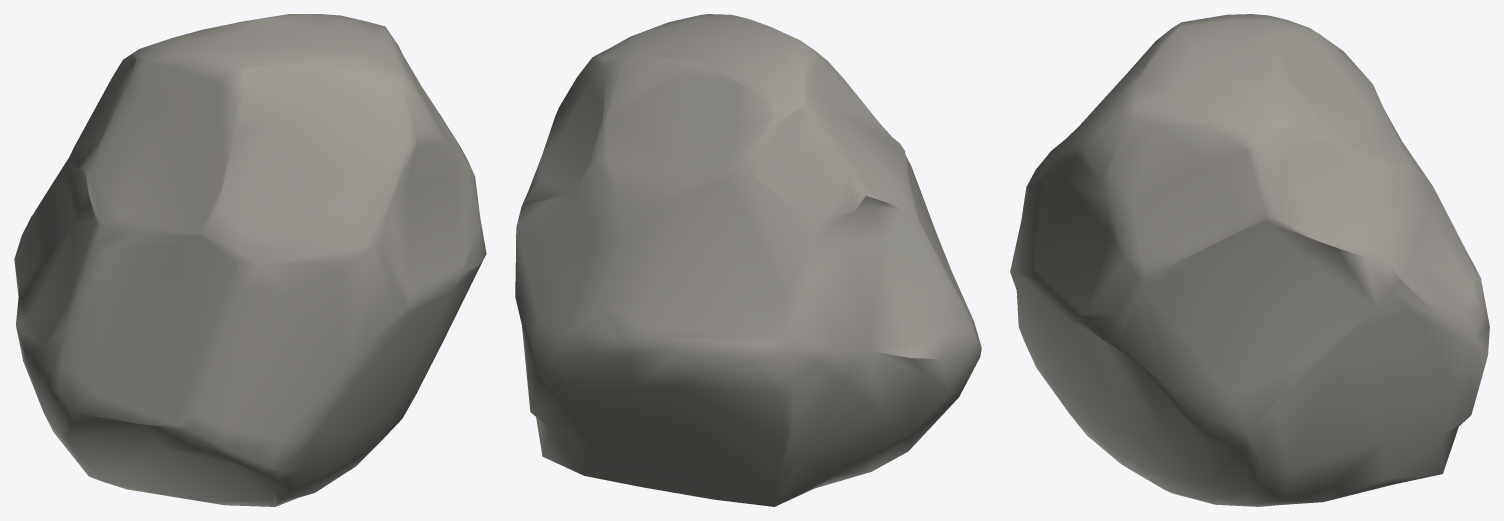
File: roca2.glb
The picture shows the model from 3 angles, left to right: view 1: azimuth 30°, elevation 25°; view 2: azimuth 150°, elevation 25°; view 3: azimuth 270°, elevation 25°; orthographic projection. The views are drawn at different scales.
Parts seen in each view (by area): view 1: Environment_Rock_4; view 2: Environment_Rock_4; view 3: Environment_Rock_4.
Part boxes in pixels (box(x1,y1,x2,y2)): Environment_Rock_4: box(14, 14, 486, 506); Environment_Rock_4: box(515, 14, 981, 506); Environment_Rock_4: box(1010, 14, 1489, 506).
Bounding box in the file's own units: 0.7628 × 0.7114 × 0.746.
1 material, 1 textured.
